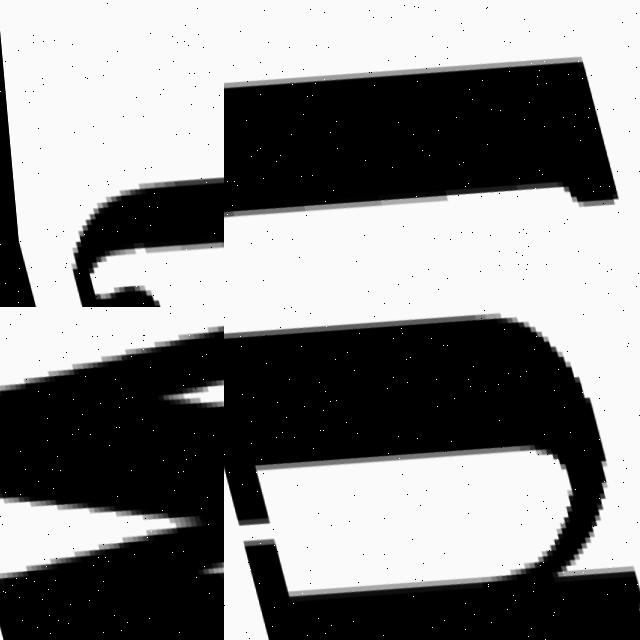J: (32, 86, 224, 307)
L: (224, 0, 636, 299)
N: (224, 307, 640, 640)
W: (0, 307, 224, 640)
